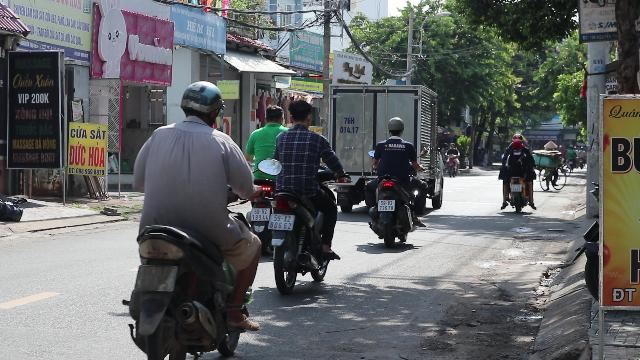helmet: (178, 80, 225, 124), (386, 116, 404, 136)
licenseplate: (137, 266, 175, 290), (269, 214, 293, 230), (250, 208, 268, 220), (378, 200, 394, 211)
motorcyclist: (120, 78, 270, 358), (268, 96, 344, 294), (364, 116, 428, 248), (242, 102, 286, 254)
nohelmet: (285, 98, 313, 126), (264, 104, 284, 124)
